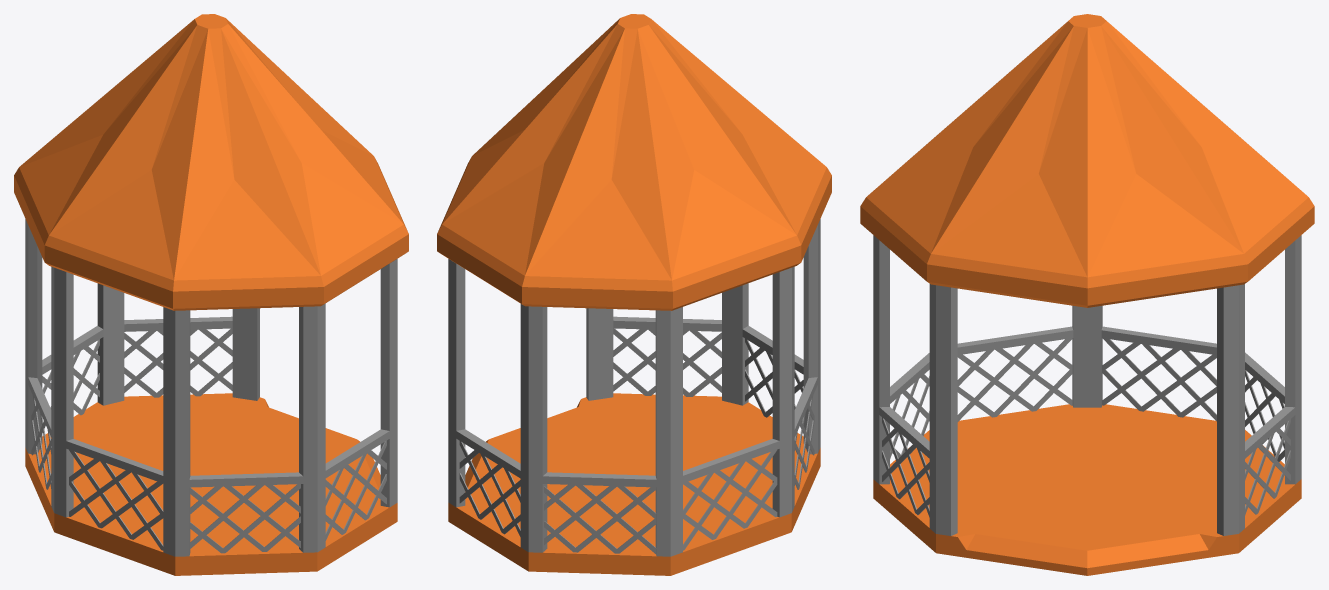
Rendered from Gazebo.fbx.
3 views of the same model, side by side, from view 1: azimuth 30°, elevation 25°; view 2: azimuth 150°, elevation 25°; view 3: azimuth 270°, elevation 25° (orthographic).
Visible parts, largest first — view 1: Gazebo; view 2: Gazebo; view 3: Gazebo.
Boxes of the visible parts, bbox=[...] form: Gazebo: bbox=[14, 14, 408, 575]; Gazebo: bbox=[437, 14, 831, 575]; Gazebo: bbox=[860, 14, 1314, 575].
Bounding box in the file's own units: 303 × 410 × 354.
